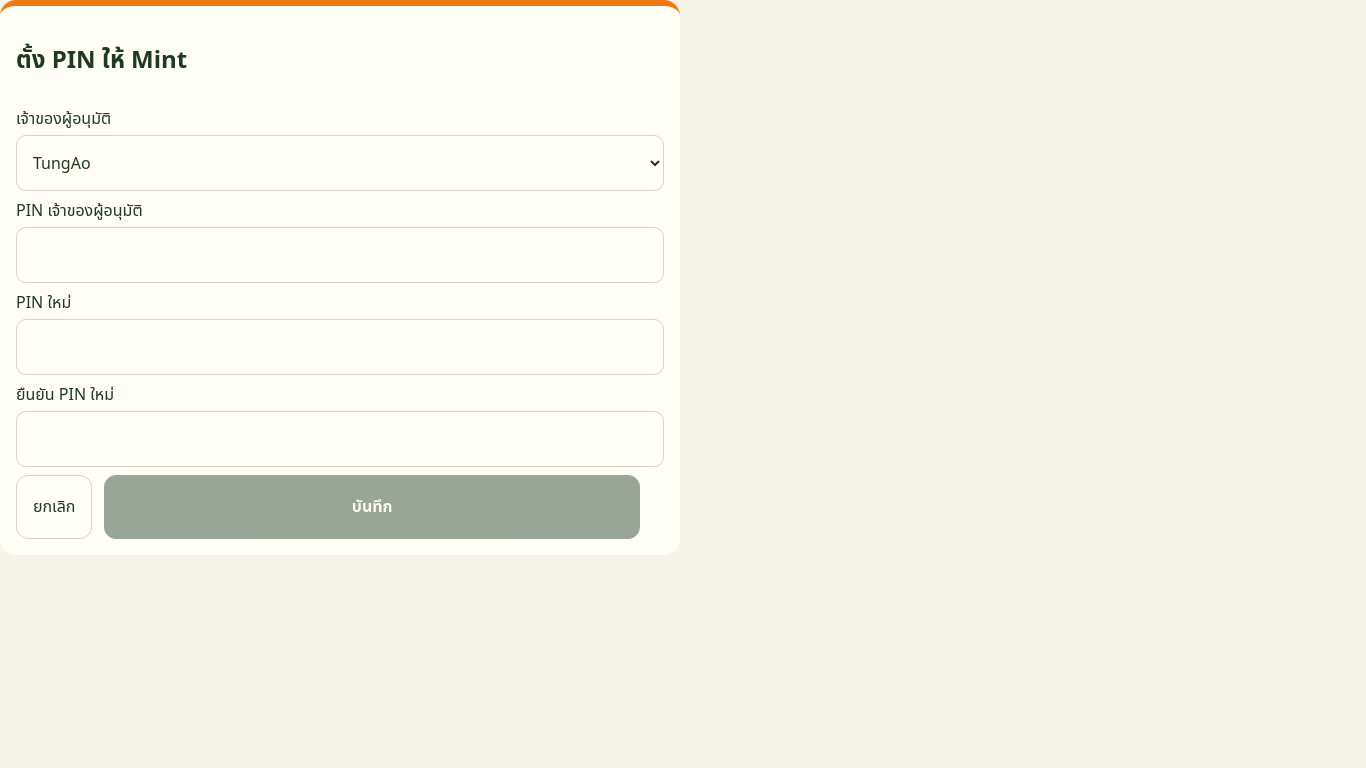
StaffPinDialog (spec 04 §6.5) › PIN_LOCKED shows the wait time (D50 Q3-21)
Type "1111" into the field with test id "staff-pin-approver-pin" at (340, 255), box [16,227,664,283]
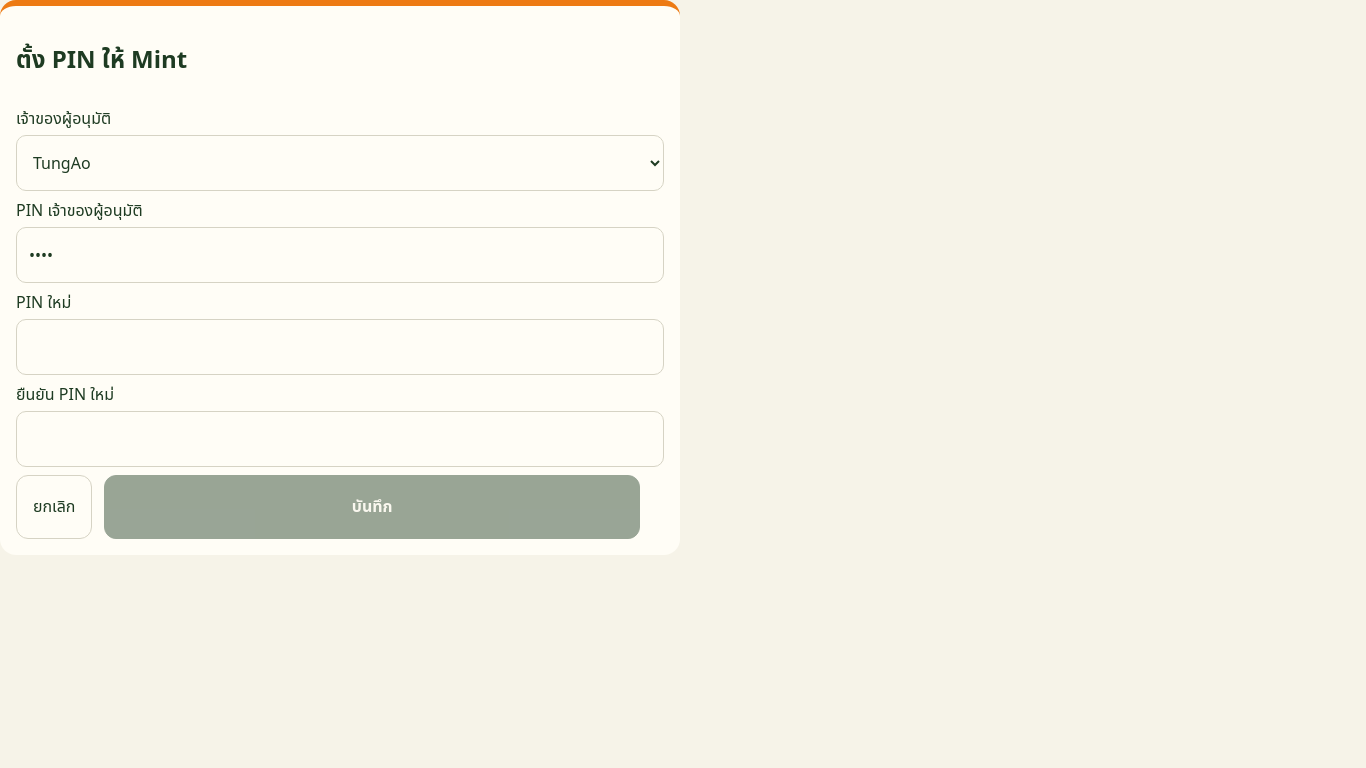
Type "2468" into the field with test id "staff-pin-new" at (340, 347), box [16,319,664,375]
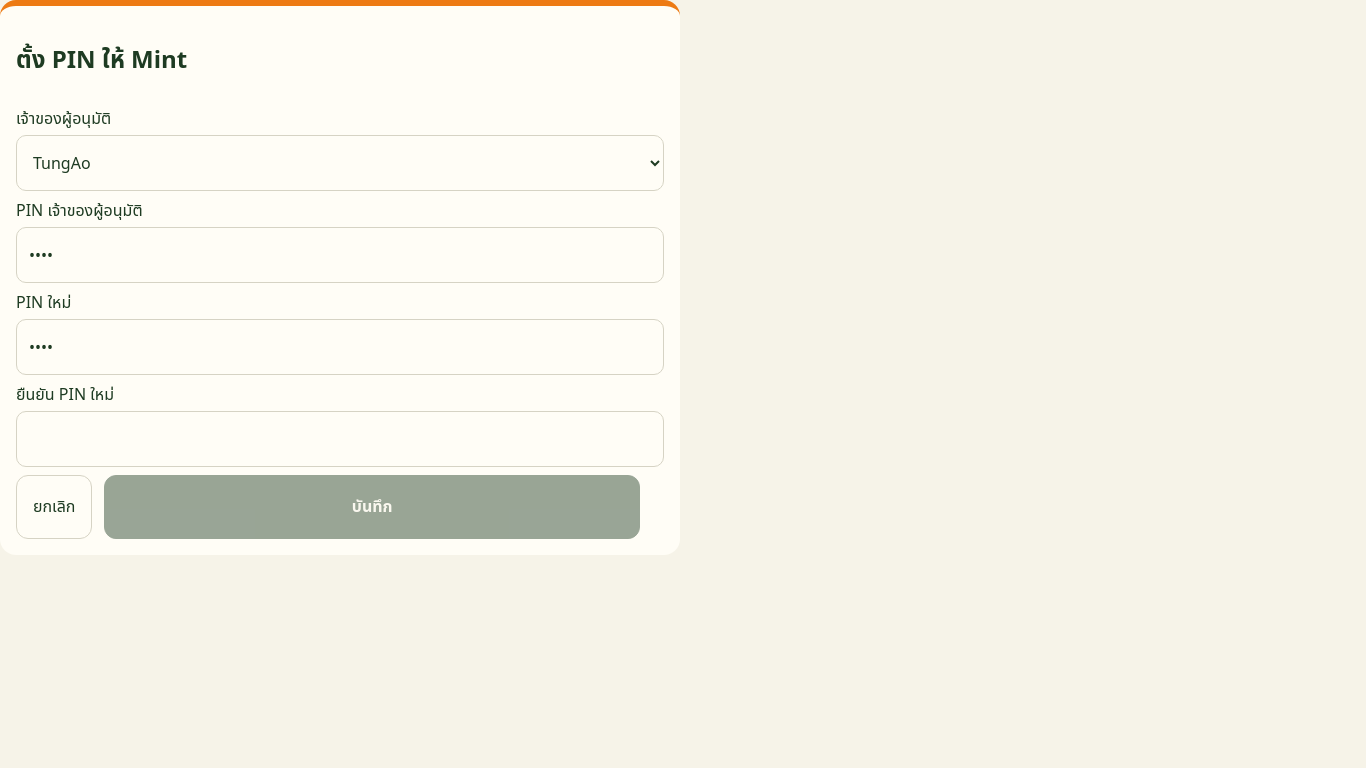
Type "2468" into the field with test id "staff-pin-new2" at (340, 439), box [16,411,664,467]
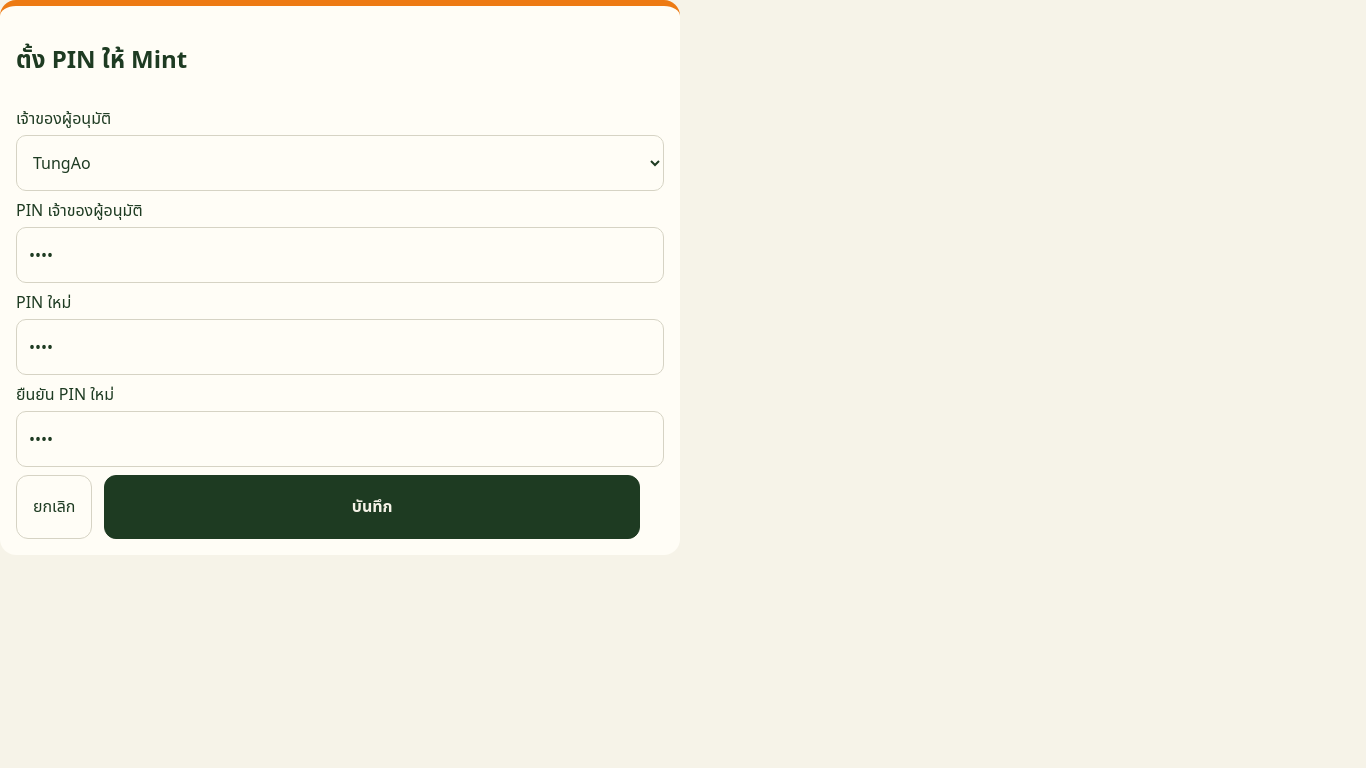
Click the button with test id "staff-pin-save" at (372, 507), box [104,475,640,539]
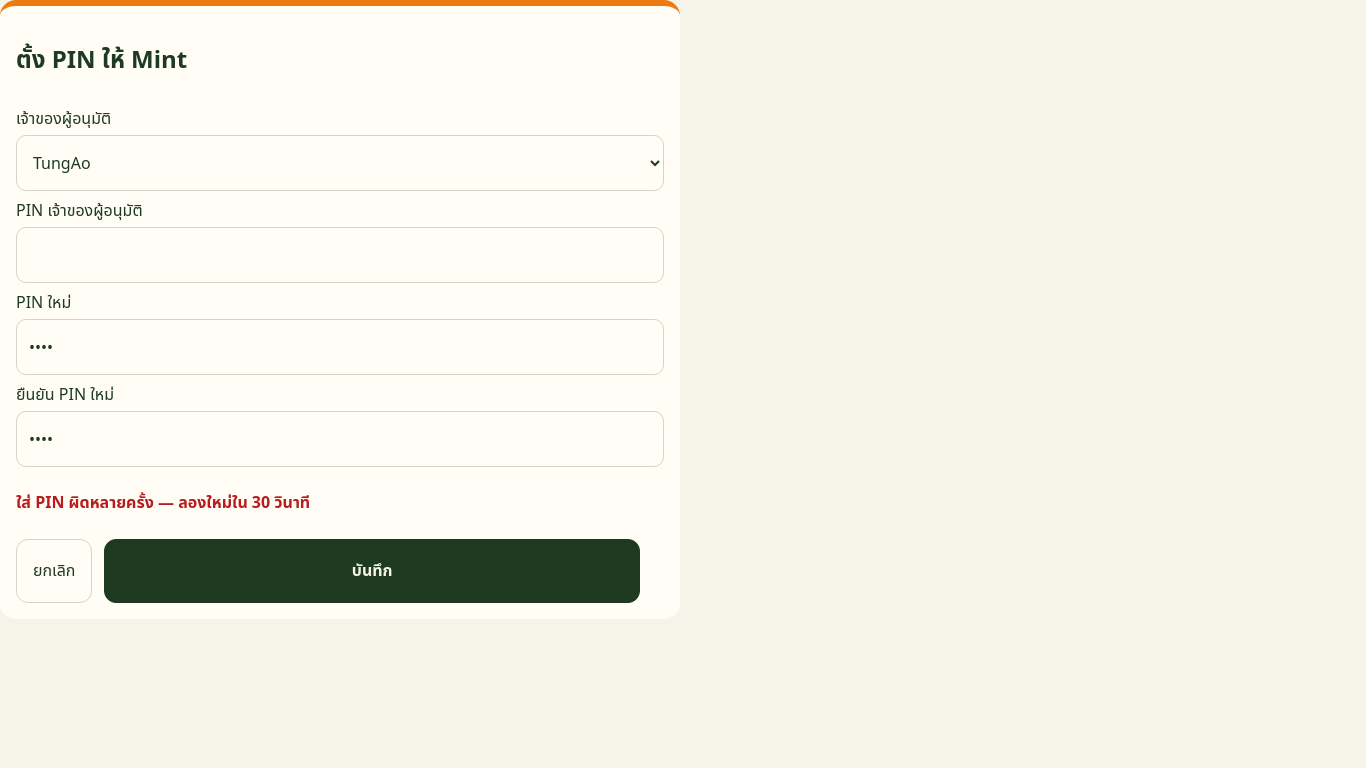
Result: the message shows "ลองใหม่ใน 30 วินาที" at [16,491,310,513]
